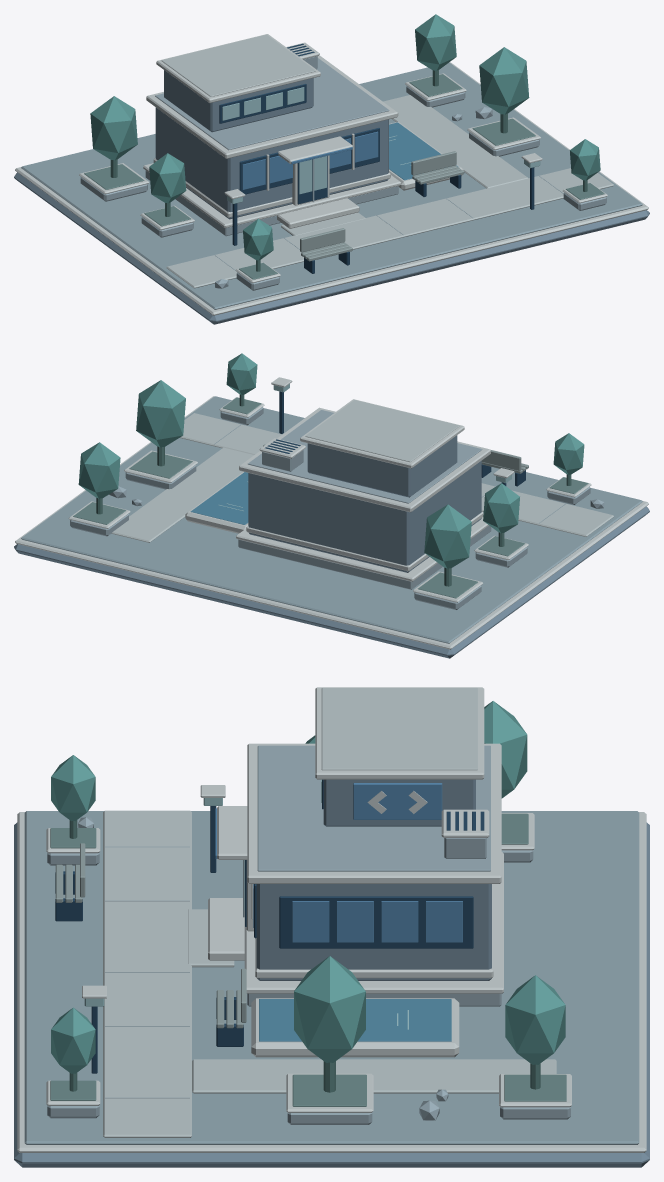
Rendered from campus_home_study_v01.glb.
3 views of the same model, one above another, from view 1: azimuth 30°, elevation 25°; view 2: azimuth 150°, elevation 25°; view 3: azimuth 270°, elevation 25° (orthographic). The views are drawn at different scales.
Parts seen in each view (by area): view 1: Terrain, Lab, Garden; view 2: Terrain, Lab, Garden; view 3: Terrain, Lab, Garden.
Part boxes in pixels (left/top/right/bottom): Terrain: left=14, top=62, right=649, bottom=324; Lab: left=143, top=34, right=401, bottom=236; Garden: left=79, top=14, right=607, bottom=290; Terrain: left=14, top=396, right=649, bottom=658; Lab: left=236, top=399, right=491, bottom=589; Garden: left=68, top=353, right=604, bottom=609; Terrain: left=14, top=810, right=649, bottom=1167; Lab: left=208, top=687, right=503, bottom=1006; Garden: left=46, top=701, right=571, bottom=1124.
Size of the model in its own units: 19 by 5.65 by 15.
